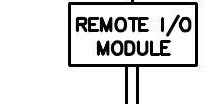remote_io_module: (67, 2, 198, 68)
